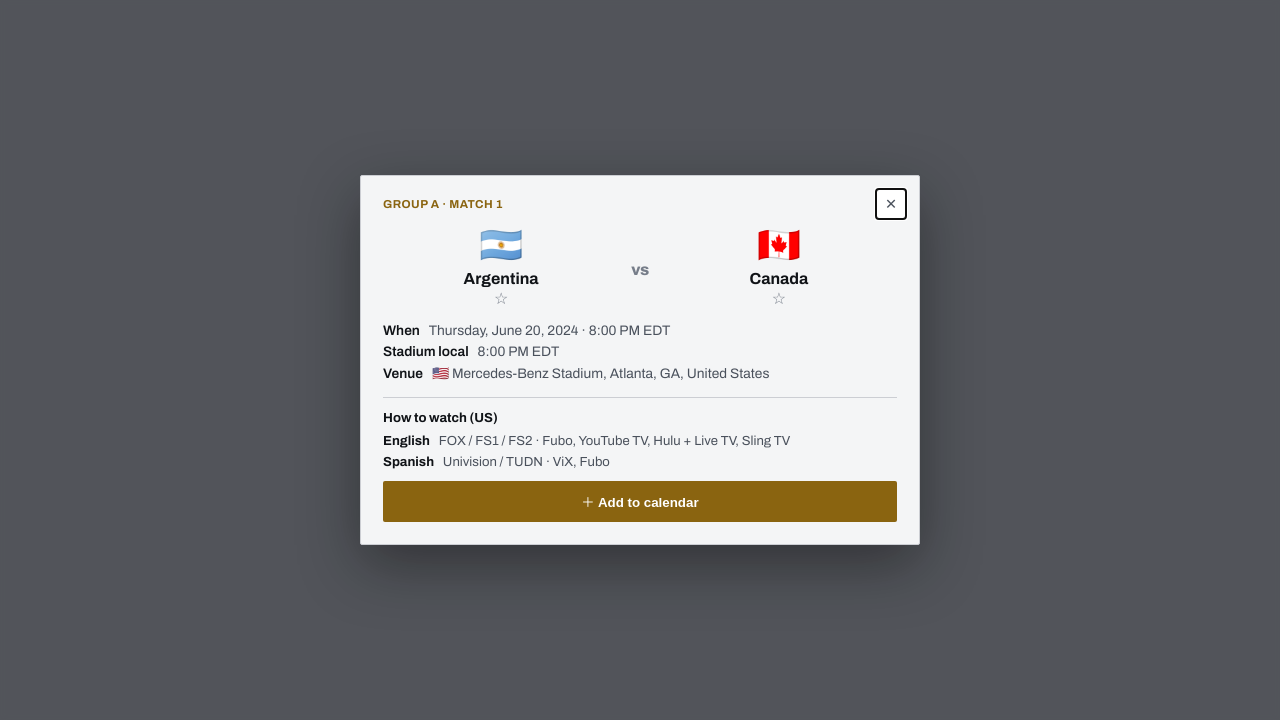
Test: MatchDetail normal states (full coverage) › follow star toggles
The width and height of the screenshot is (1280, 720).
Click the button named "Follow Argentina": (501,299) [492,291,510,307]
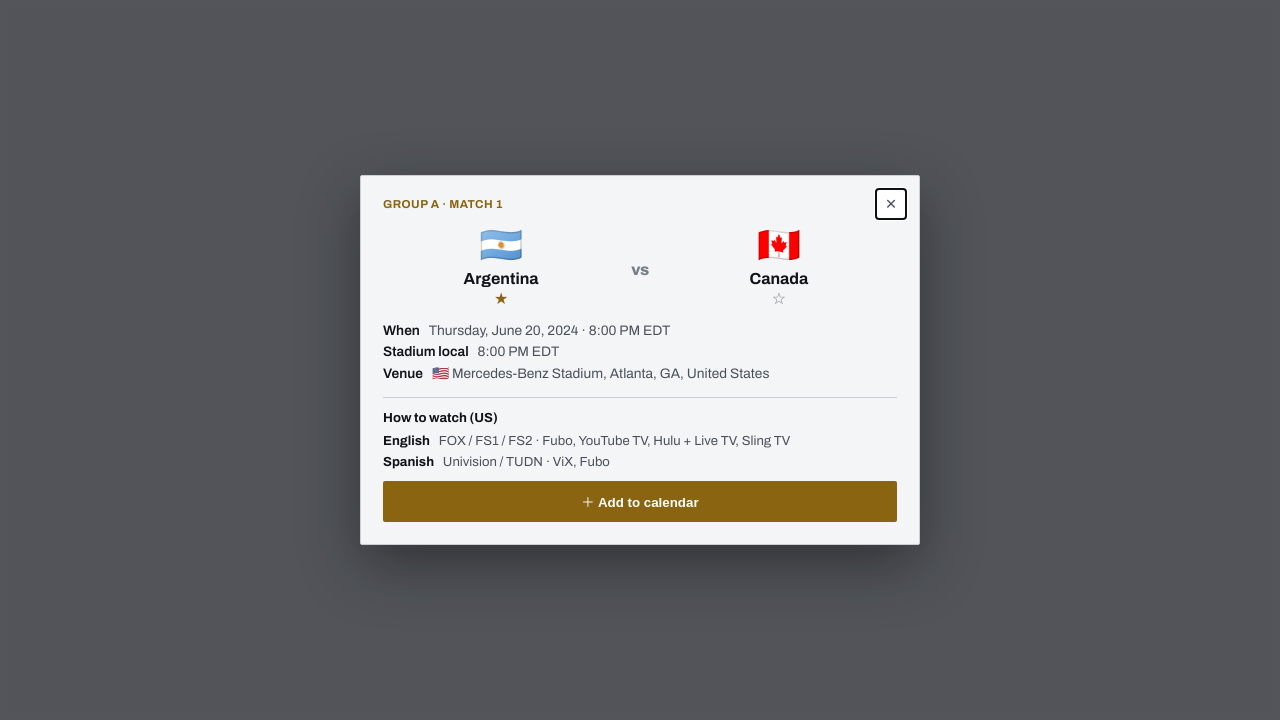
Now the button named "Unfollow Argentina" is shown, box [492,291,510,307]
